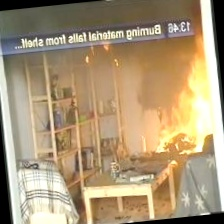fire: (143, 30, 217, 156)
